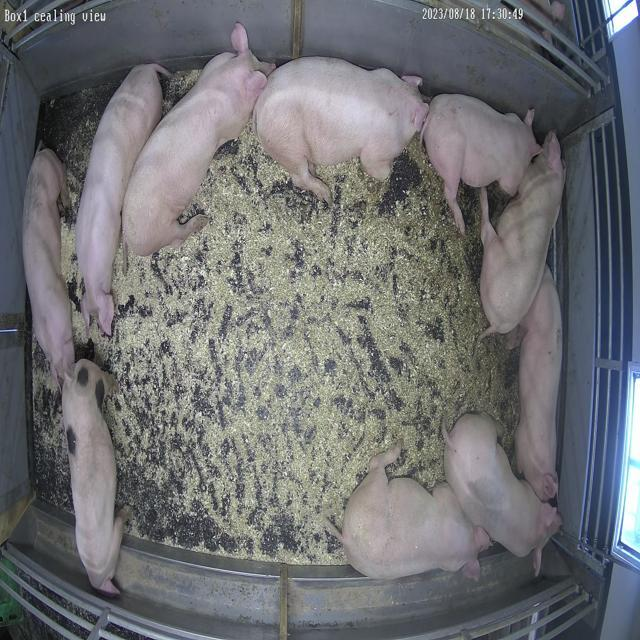Pig: (123, 23, 268, 256), (76, 63, 169, 336), (254, 56, 430, 200), (339, 446, 491, 580), (445, 415, 563, 572), (481, 132, 566, 334), (423, 94, 542, 234), (62, 360, 127, 596), (22, 148, 74, 384), (516, 266, 564, 502)
